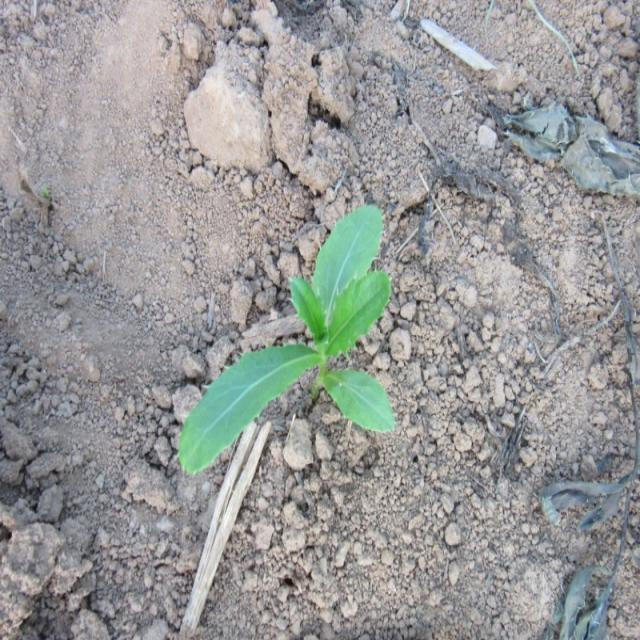cs: (177, 199, 397, 474)
